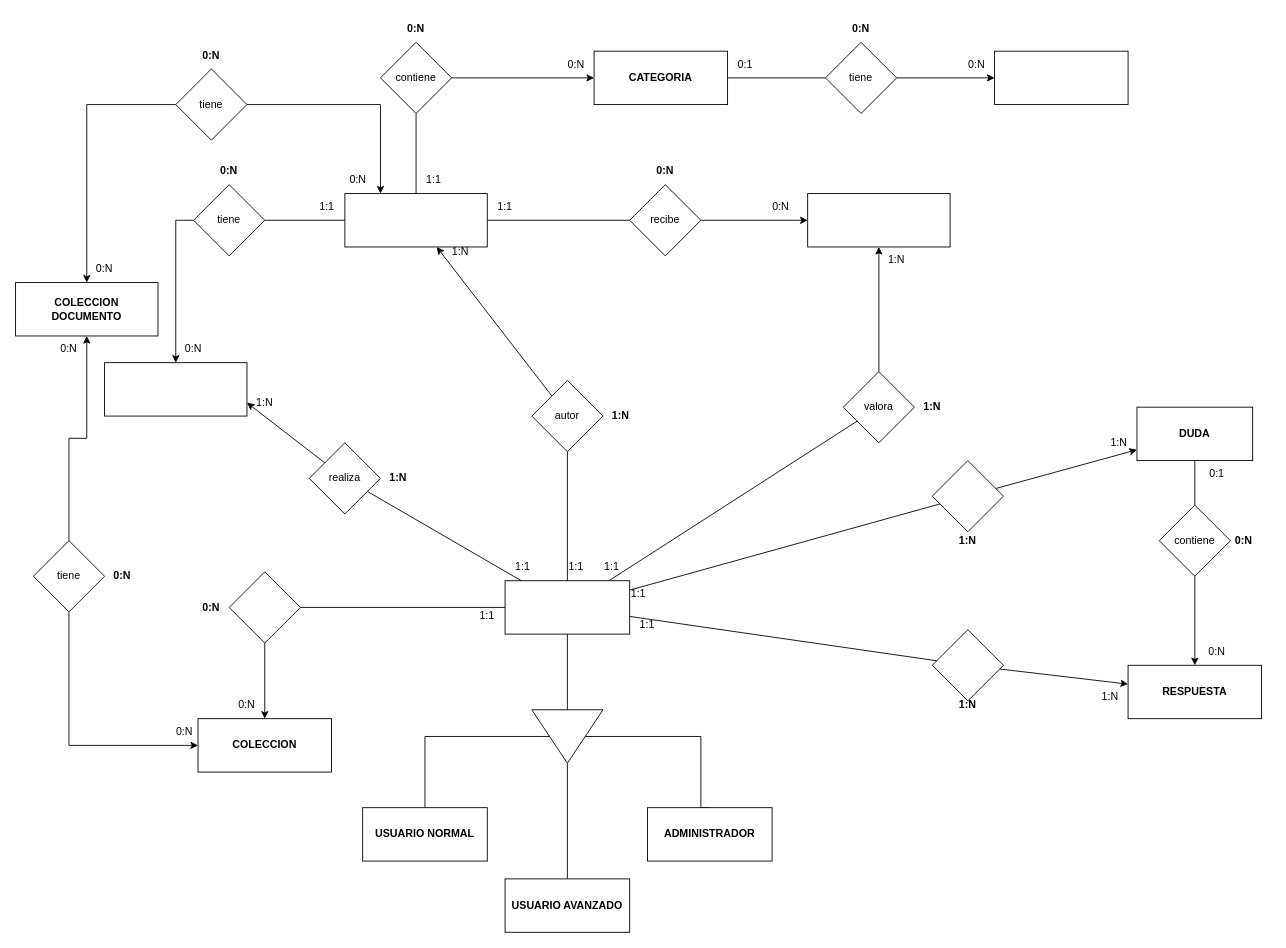
The diagram is 1286 pixels wide and 948 high, and some of its shapes have lost their labels. The shapes that lost their labels are listed below. From the top down, each one's centre as x and y in pixels, then its label:
At [1061,77]: "SUBCATEGORIA".
At [415,220]: "DOCUMENTO".
At [878,220]: "VALORACION".
At [175,389]: "COMENTARIO".
At [967,496]: "plantea".
At [264,607]: "crea".
At [567,607]: "USUARIO".
At [967,665]: "propone".
At [567,736]: "IS A".
